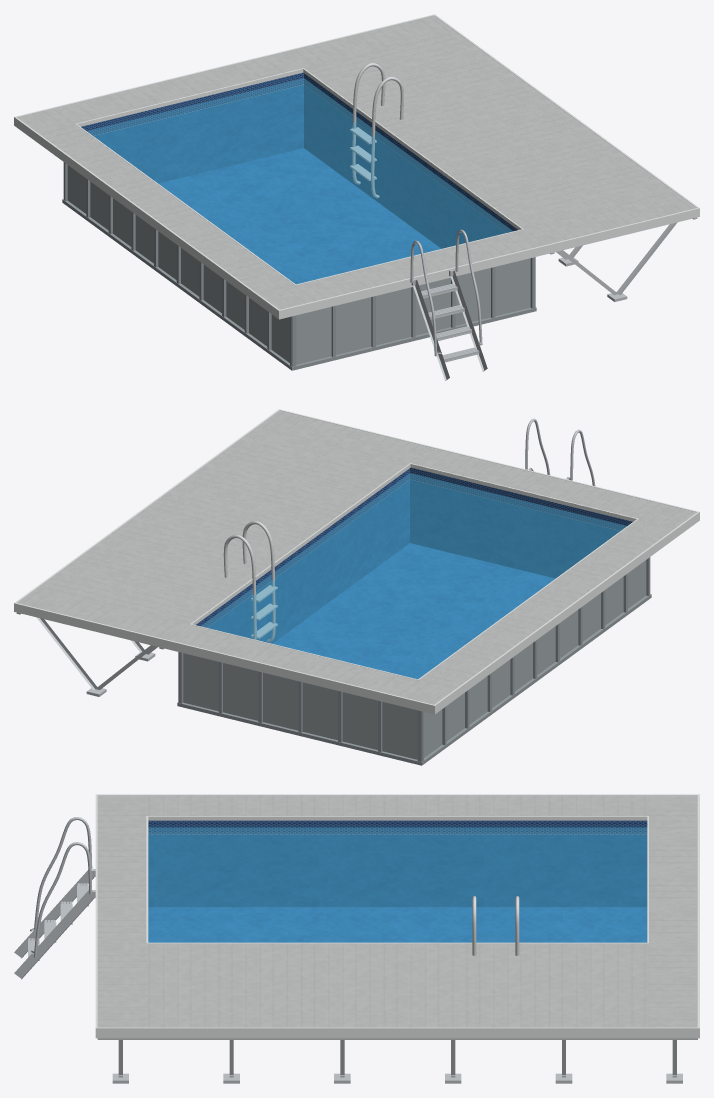
Rendered from kayak-pool-12x20-gray-side-ag-nofence.c10d91216d.glb.
3 views of the same model, one above another, from view 1: azimuth 30°, elevation 25°; view 2: azimuth 150°, elevation 25°; view 3: azimuth 270°, elevation 25° (orthographic). The views are drawn at different scales.
Parts seen in each view (by area): view 1: deck, water, liner_wall, liner_floor, wall, fascia, upright, ladder, steel, stud; view 2: deck, water, liner_wall, liner_floor, wall, fascia, upright, steel, stud, ladder; view 3: deck, water, liner_wall, liner_floor, fascia, ladder, stud, steel.
Boxes of the visible parts, x1=… form: deck: x1=17, y1=15, x2=696, y2=309; water: x1=87, y1=78, x2=512, y2=284; liner_wall: x1=81, y1=72, x2=517, y2=248; liner_floor: x1=159, y1=148, x2=440, y2=284; wall: x1=67, y1=165, x2=530, y2=364; fascia: x1=14, y1=14, x2=699, y2=319; upright: x1=62, y1=162, x2=536, y2=370; ladder: x1=410, y1=229, x2=487, y2=380; steel: x1=350, y1=63, x2=403, y2=198; stud: x1=550, y1=217, x2=697, y2=301; deck: x1=17, y1=410, x2=696, y2=704; water: x1=201, y1=473, x2=626, y2=679; liner_wall: x1=196, y1=467, x2=632, y2=643; liner_floor: x1=272, y1=543, x2=554, y2=679; wall: x1=183, y1=560, x2=646, y2=759; fascia: x1=14, y1=409, x2=699, y2=714; upright: x1=177, y1=557, x2=651, y2=765; steel: x1=223, y1=521, x2=277, y2=642; stud: x1=16, y1=612, x2=164, y2=696; ladder: x1=525, y1=418, x2=595, y2=485; deck: x1=97, y1=795, x2=697, y2=1027; water: x1=148, y1=827, x2=647, y2=942; liner_wall: x1=148, y1=820, x2=647, y2=907; liner_floor: x1=148, y1=907, x2=647, y2=942; fascia: x1=95, y1=794, x2=699, y2=1038; ladder: x1=14, y1=817, x2=95, y2=979; stud: x1=97, y1=1038, x2=697, y2=1083; steel: x1=472, y1=896, x2=519, y2=955.
Bounding box in the file's own units: 6.71 × 1.9 × 8.3.
10 materials, 3 textured.
